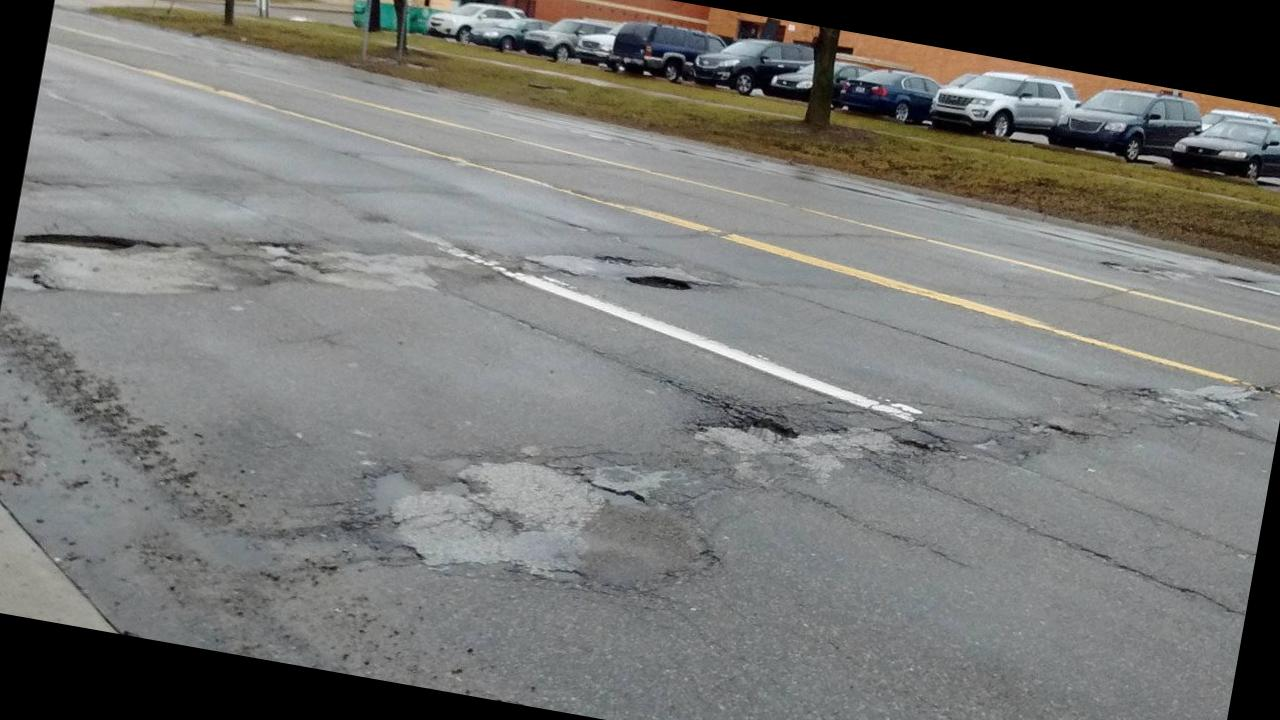pothole: (277, 392, 752, 659), (14, 200, 187, 284), (710, 404, 814, 465), (610, 260, 709, 313), (584, 243, 638, 273)
